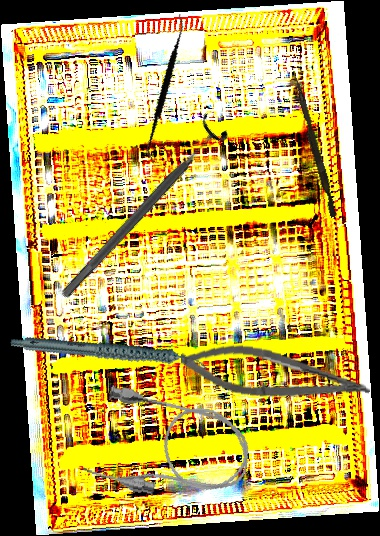Cannula: (80, 382, 258, 514)
Fixation Ring: (50, 111, 232, 308)
Handpiece: (9, 297, 210, 410)
Micro Scissor: (177, 338, 374, 408)
Pusher: (288, 76, 341, 218)
Spatula Surgical: (109, 13, 224, 164)
